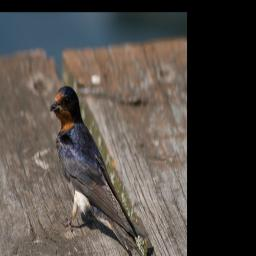Swallow: (49, 84, 155, 256)
